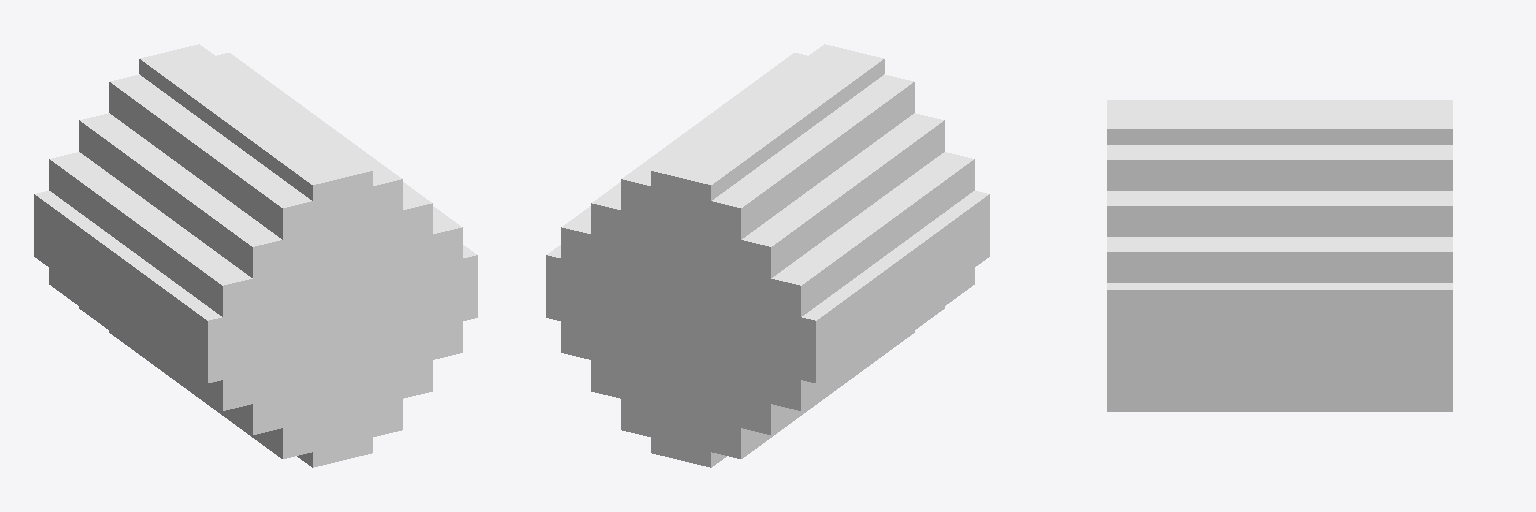
The model's file is Health.obj.
3 views of the same model, side by side, from view 1: azimuth 30°, elevation 25°; view 2: azimuth 150°, elevation 25°; view 3: azimuth 270°, elevation 25° (orthographic).
Parts seen in each view (by area): view 1: object 1; view 2: object 1; view 3: object 1.
Part boxes in pixels (x1,y1,x2,y2): object 1: (34, 44, 477, 467); object 1: (546, 44, 989, 467); object 1: (1107, 100, 1452, 411).
Bounding box in the file's own units: 1.8 × 1.8 × 2.